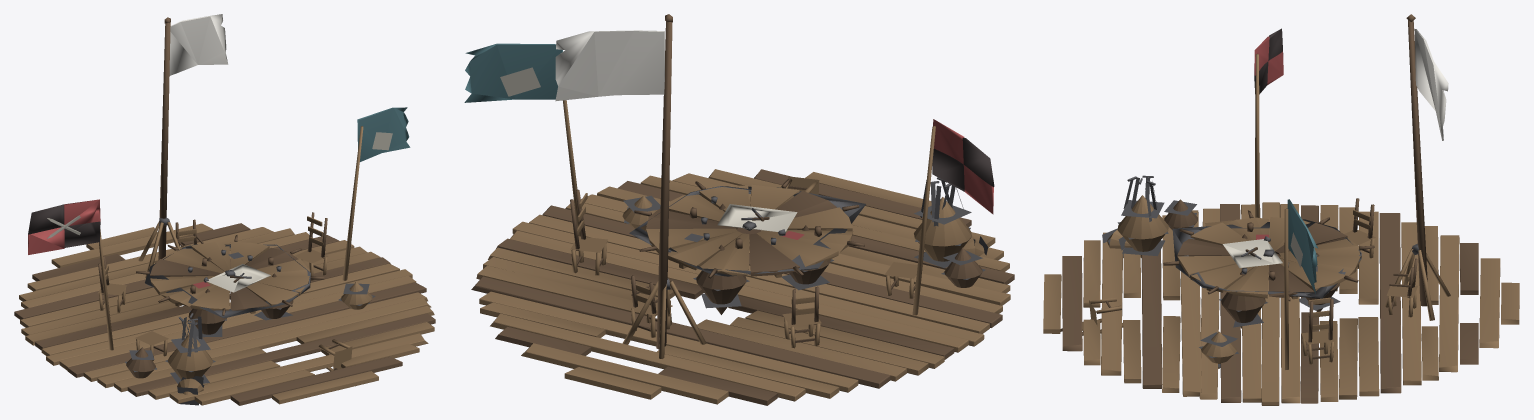
Rendered from parley_table_far.glb.
3 renders of one model, left to right at view 1: azimuth 30°, elevation 25°; view 2: azimuth 150°, elevation 25°; view 3: azimuth 270°, elevation 25°, orthographic. The views are drawn at different scales.
Parts seen in each view (by area): view 1: parley_table; view 2: parley_table; view 3: parley_table.
Part boxes in pixels (x1=…): parley_table: x1=14, y1=14, x2=435, y2=405; parley_table: x1=464, y1=14, x2=1014, y2=405; parley_table: x1=1043, y1=14, x2=1519, y2=405.
Size of the model in its own units: 8.95 by 5.72 by 8.18.
